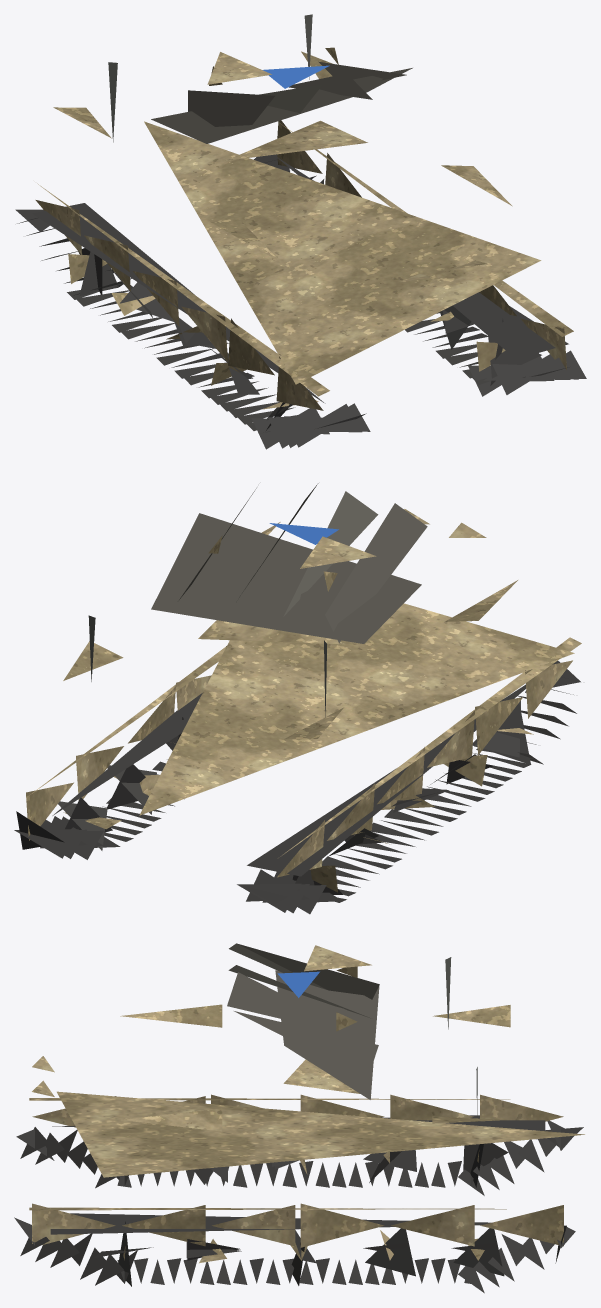
The model's file is afv_e4_us_atgm_LOD2.glb.
3 views of the same model, one above another, from view 1: azimuth 30°, elevation 25°; view 2: azimuth 150°, elevation 25°; view 3: azimuth 270°, elevation 25° (orthographic). The views are drawn at different scales.
Visible parts, largest first — view 1: afv_e4_us_atgm_LOD2_body, afv_e4_us_atgm_LOD2_track, afv_e4_us_atgm_LOD2_deck, afv_e4_us_atgm_LOD2_gun, afv_e4_us_atgm_LOD2_team; view 2: afv_e4_us_atgm_LOD2_body, afv_e4_us_atgm_LOD2_deck, afv_e4_us_atgm_LOD2_track, afv_e4_us_atgm_LOD2_team; view 3: afv_e4_us_atgm_LOD2_body, afv_e4_us_atgm_LOD2_track, afv_e4_us_atgm_LOD2_deck, afv_e4_us_atgm_LOD2_team.
Part boxes in pixels (box(x1,y1,x2,y2)): afv_e4_us_atgm_LOD2_body: box(35, 47, 573, 410); afv_e4_us_atgm_LOD2_track: box(15, 154, 586, 449); afv_e4_us_atgm_LOD2_deck: box(151, 61, 412, 143); afv_e4_us_atgm_LOD2_gun: box(108, 14, 312, 142); afv_e4_us_atgm_LOD2_team: box(262, 65, 329, 88); afv_e4_us_atgm_LOD2_body: box(26, 509, 581, 892); afv_e4_us_atgm_LOD2_deck: box(151, 483, 427, 643); afv_e4_us_atgm_LOD2_track: box(14, 660, 580, 914); afv_e4_us_atgm_LOD2_team: box(269, 523, 338, 544); afv_e4_us_atgm_LOD2_body: box(29, 945, 584, 1263); afv_e4_us_atgm_LOD2_track: box(14, 1115, 583, 1293); afv_e4_us_atgm_LOD2_deck: box(227, 943, 379, 1099); afv_e4_us_atgm_LOD2_team: box(277, 971, 319, 997).
Size of the model in its own units: 2.95 by 3 by 5.85.
5 materials, 1 textured.
